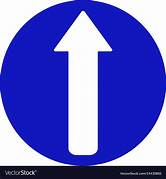forward: (1, 1, 165, 166)
